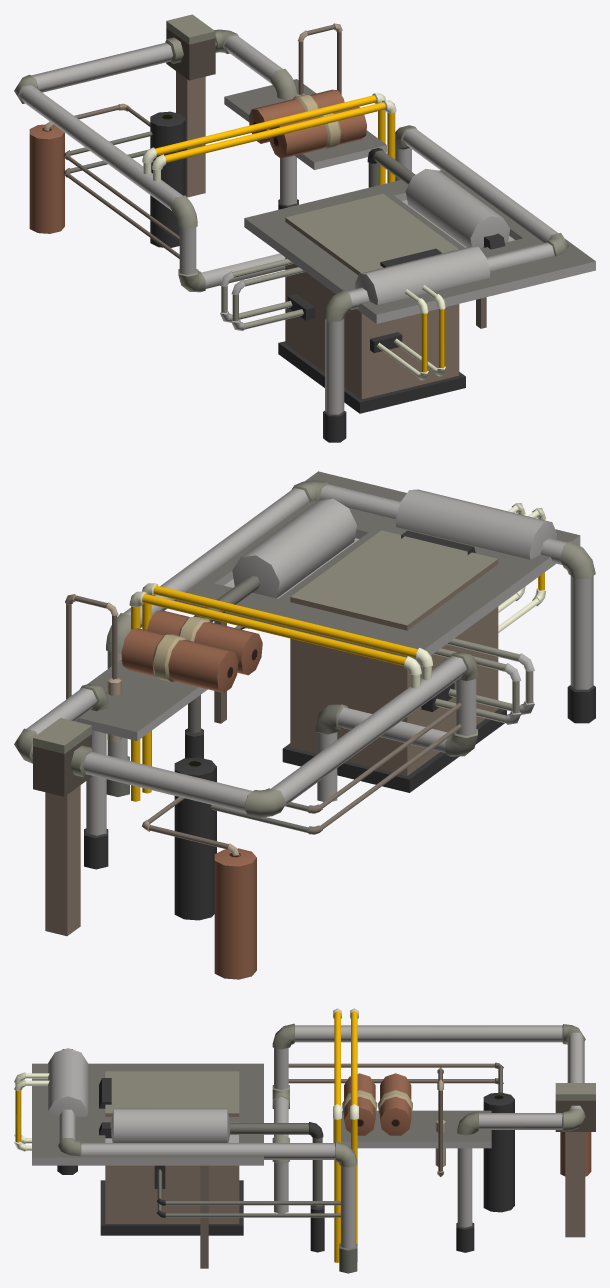
File: facility1.fbx
3 views of the same model, one above another, from view 1: azimuth 30°, elevation 25°; view 2: azimuth 150°, elevation 25°; view 3: azimuth 270°, elevation 25° (orthographic). The views are drawn at different scales.
Parts seen in each view (by area): view 1: facility1; view 2: facility1; view 3: facility1.
Part boxes in pixels (x1,y1,x2,y2): facility1: [14, 14, 595, 442]; facility1: [14, 471, 595, 979]; facility1: [14, 1008, 595, 1273].
Size of the model in its own units: 1609 by 1163 by 3344.
